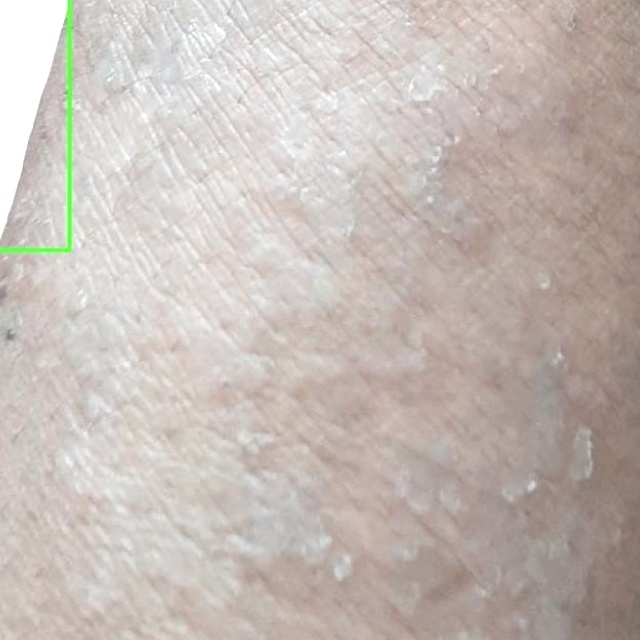Tinea Corporis: (0, 0, 69, 250)
